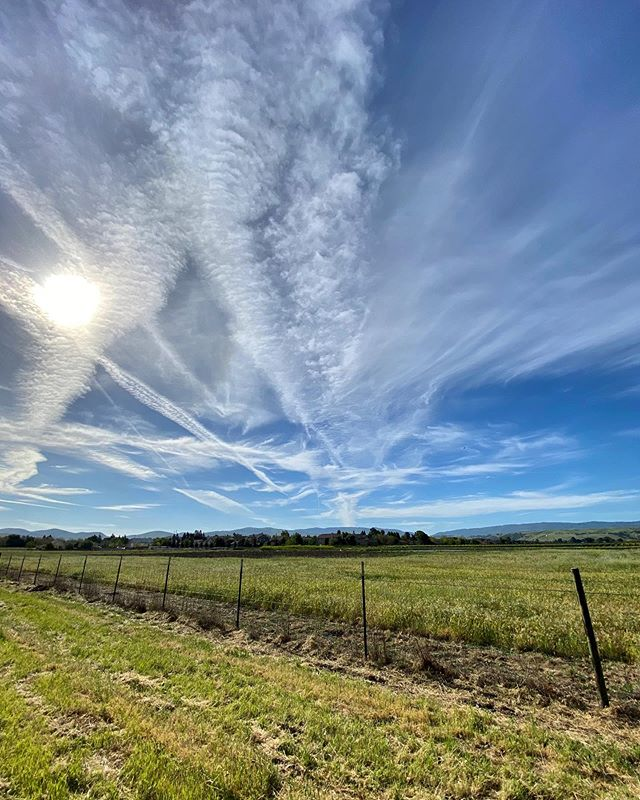grass: (1, 546, 640, 794)
sky: (1, 1, 640, 514)
